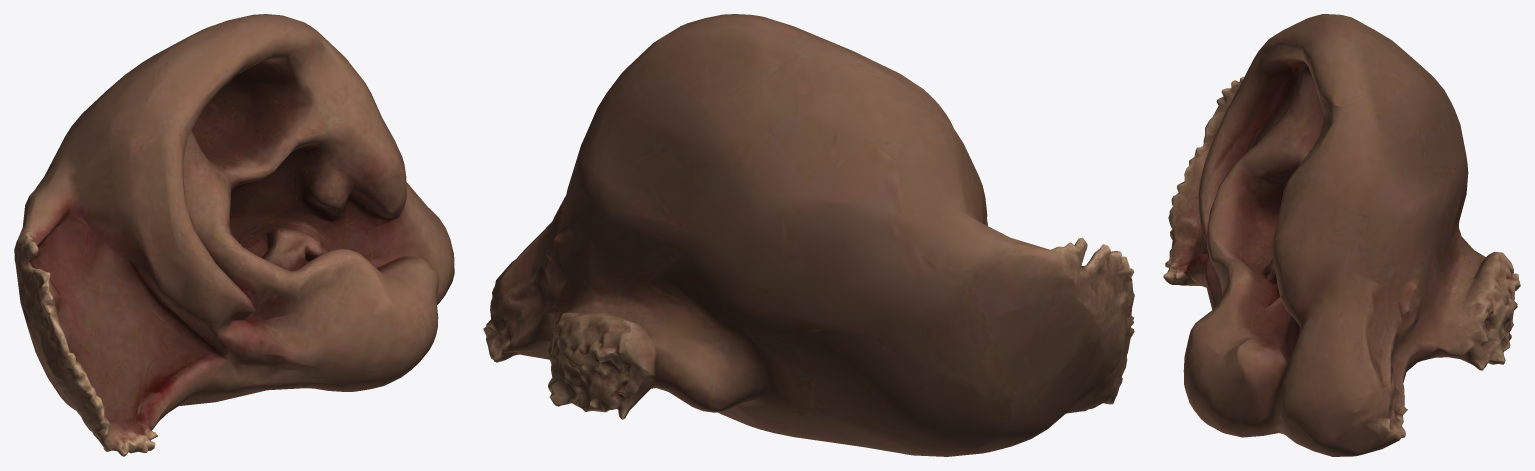
File: ear.glb
3 renders of one model, left to right at view 1: azimuth 30°, elevation 25°; view 2: azimuth 150°, elevation 25°; view 3: azimuth 270°, elevation 25°, orthographic. The views are drawn at different scales.
Parts seen in each view (by area): view 1: Mesh_0; view 2: Mesh_0; view 3: Mesh_0.
Boxes of the visible parts, x1,y1,x2,y2 form: Mesh_0: (14, 14, 454, 456); Mesh_0: (483, 14, 1134, 456); Mesh_0: (1163, 14, 1520, 456).
Bounding box in the file's own units: 1.89 × 1.35 × 1.23.
1 material, 1 textured.
